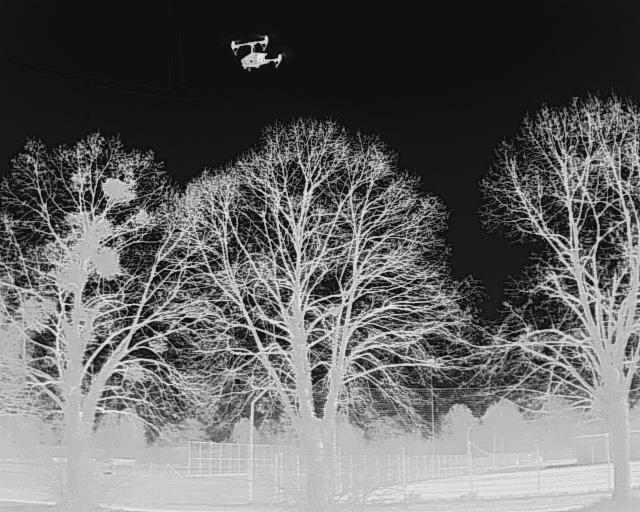drone: (221, 26, 291, 76)
